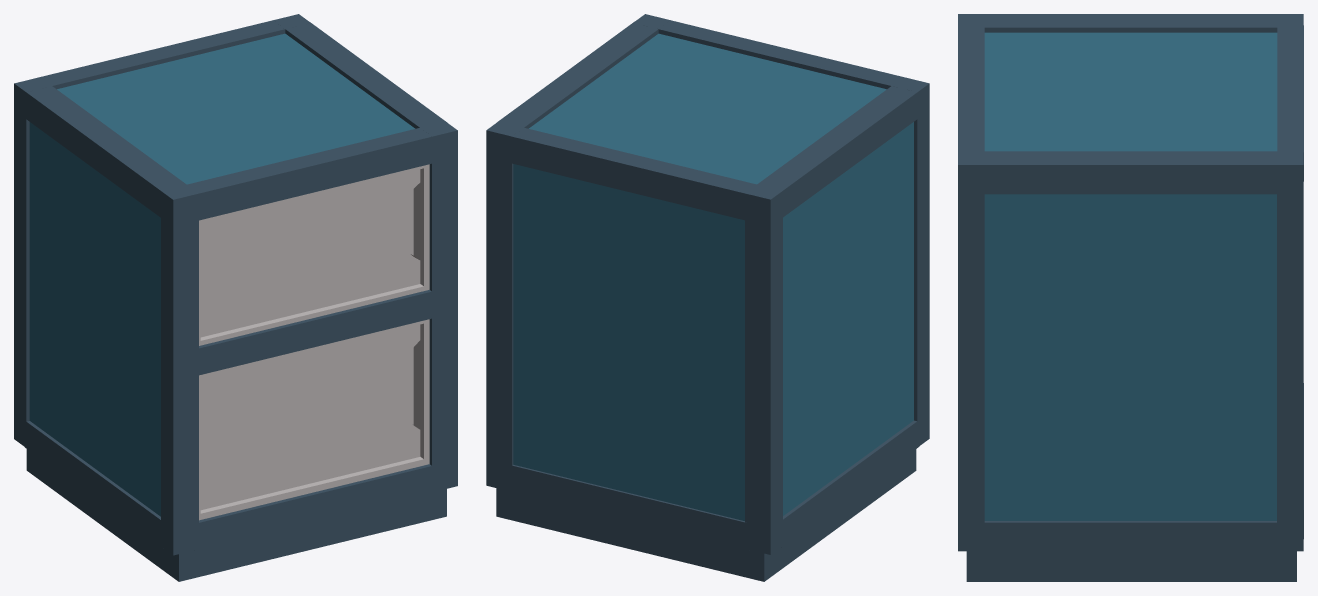
Rendered from bedside_table_tier15.fbx.
3 renders of one model, left to right at view 1: azimuth 30°, elevation 25°; view 2: azimuth 150°, elevation 25°; view 3: azimuth 270°, elevation 25°, orthographic. The views are drawn at different scales.
Parts seen in each view (by area): view 1: Cube.022, Cube.023, Cube.017, Cube.002, Cube.003, Cube.007, Cube.009, Cube.018, Cube.006, Cube.021, Cube.013, Cube.004 (+3 smaller); view 2: Cube.008, Cube.022, Cube.017, Cube.004, Cube.007, Cube.010, Cube.019, Cube.021, Cube.014, Cube.003, Cube.016, Cube.020 (+1 smaller); view 3: Cube.011, Cube.017, Cube.020, Cube.010, Cube.009, Cube.007, Cube.015, Cube.021, Cube.019, Cube.018.
Part boxes in pixels (left/top/right/bottom): Cube.022: left=29, top=122, right=160, bottom=516; Cube.023: left=199, top=319, right=429, bottom=520; Cube.017: left=57, top=33, right=415, bottom=184; Cube.002: left=199, top=164, right=429, bottom=345; Cube.003: left=161, top=184, right=198, bottom=555; Cube.007: left=26, top=449, right=446, bottom=581; Cube.009: left=420, top=121, right=457, bottom=492; Cube.018: left=187, top=128, right=433, bottom=221; Cube.006: left=194, top=290, right=433, bottom=376; Cube.021: left=26, top=86, right=186, bottom=217; Cube.013: left=194, top=464, right=433, bottom=550; Cube.004: left=14, top=77, right=51, bottom=447; Cube.008: left=513, top=164, right=744, bottom=520; Cube.022: left=783, top=122, right=913, bottom=515; Cube.017: left=529, top=33, right=886, bottom=184; Cube.004: left=745, top=184, right=782, bottom=554; Cube.007: left=496, top=449, right=916, bottom=581; Cube.010: left=486, top=121, right=523, bottom=491; Cube.019: left=510, top=127, right=756, bottom=221; Cube.021: left=757, top=86, right=917, bottom=217; Cube.014: left=510, top=464, right=749, bottom=550; Cube.003: left=892, top=77, right=929, bottom=447; Cube.016: left=781, top=420, right=919, bottom=547; Cube.020: left=498, top=21, right=658, bottom=128; Cube.011: left=984, top=194, right=1276, bottom=520; Cube.017: left=984, top=32, right=1277, bottom=151; Cube.020: left=980, top=151, right=1280, bottom=194; Cube.010: left=1277, top=151, right=1303, bottom=551; Cube.009: left=958, top=151, right=984, bottom=551; Cube.007: left=966, top=551, right=1296, bottom=581; Cube.015: left=980, top=521, right=1280, bottom=551; Cube.021: left=984, top=14, right=1277, bottom=32; Cube.019: left=1277, top=25, right=1303, bottom=181; Cube.018: left=958, top=27, right=984, bottom=151.
Size of the model in its own units: 77.7 by 101 by 75.16.
